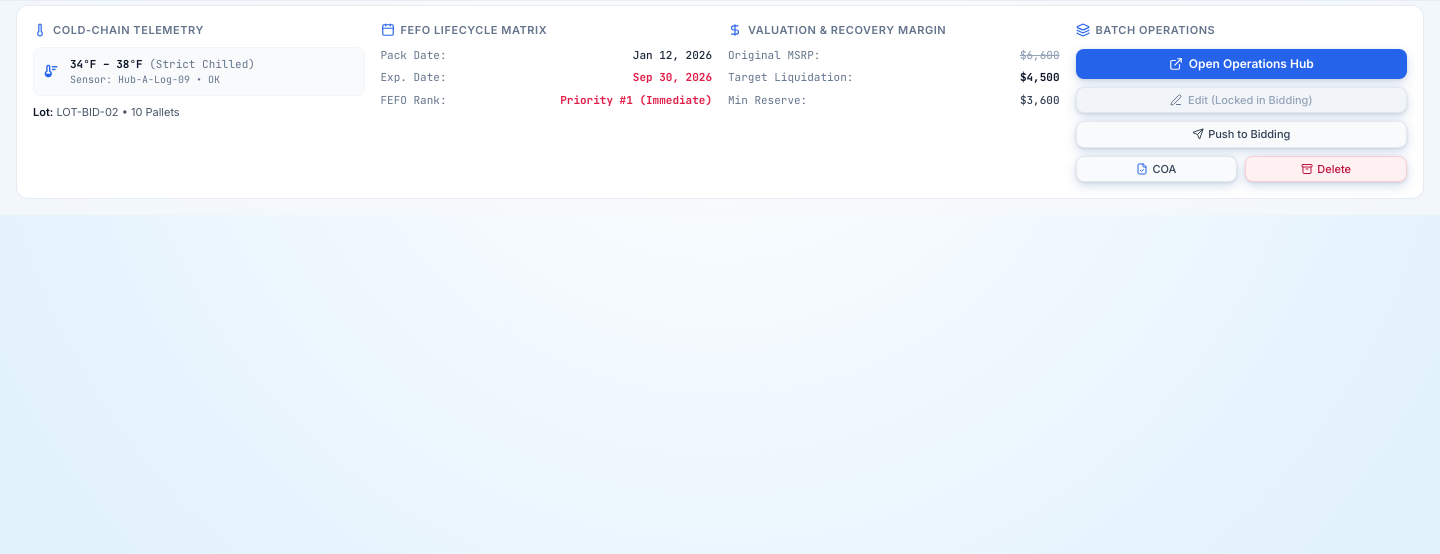
Scenario: Ingestion Inventory Tab: Edit Inventory & Bidding Guard & Delete/Archive Rename › 4. InventoryRowInspectionDrawer: Rename Quarantine to Delete & Row Edit Button › rejects editing in drawer when lot is listed in bidding
The width and height of the screenshot is (1440, 554).
Note: Clicking it shows rejection notice and does not trigger onEditInventory
What coordinates should you click on to do the following:
click the button "Edit (Locked in Bidding)"
I would click on:
 (1241, 100)
Its box is [1076,86,1407,113].
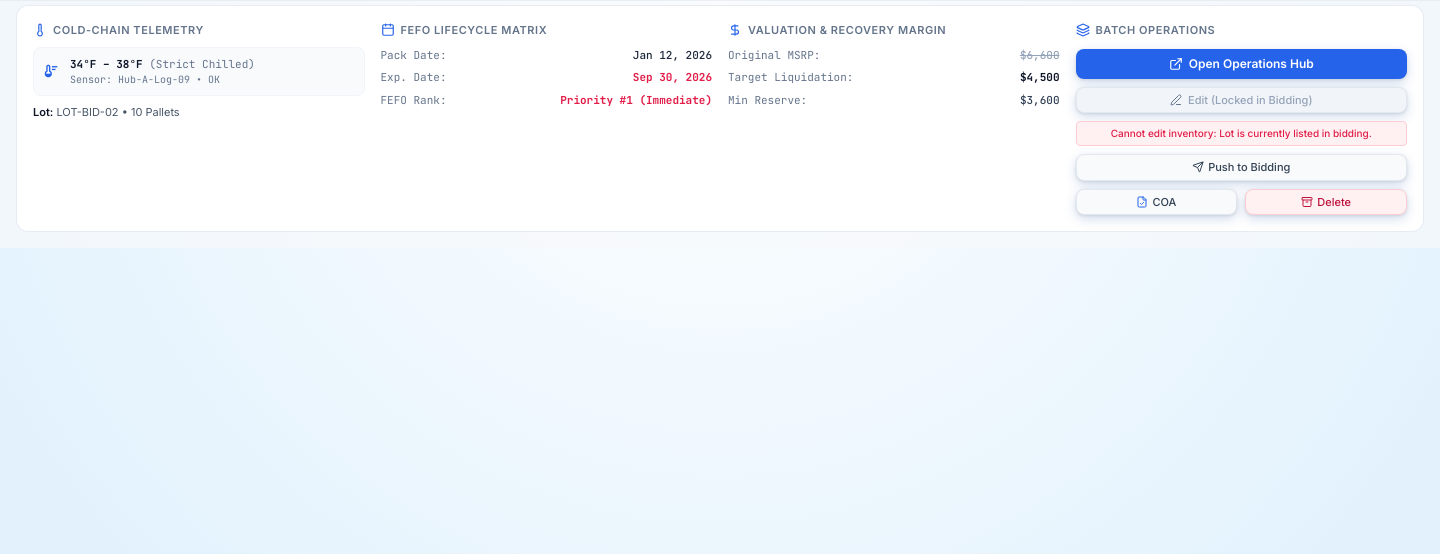
Expected: the text "Cannot edit inventory: Lot is currently listed in bidding." is shown, [1076,121,1407,146]
